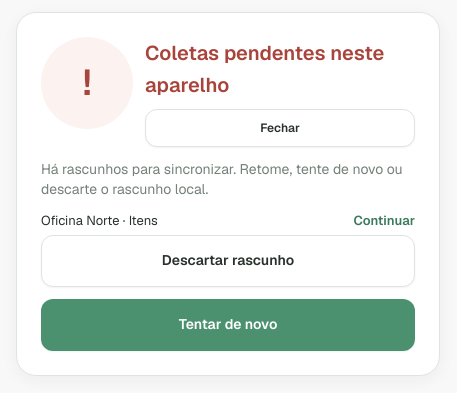
OfflinePendingBanner online drain › hides the blocking panel on Fechar and keeps the draft
Click the button "Fechar" at (280, 128), box 145,109 -> 415,147
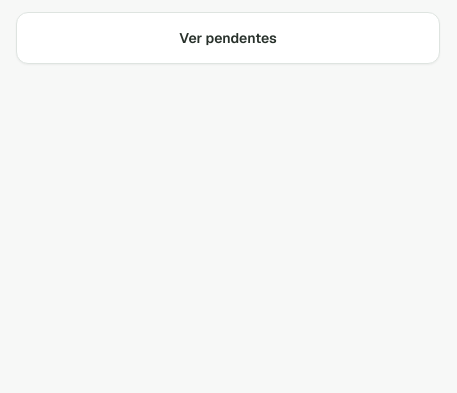
Result: the heading "Coletas pendentes neste aparelho" is gone
Result: the button "Ver pendentes" is shown at 16,12 -> 440,64
Result: the button "Descartar rascunho" is gone
